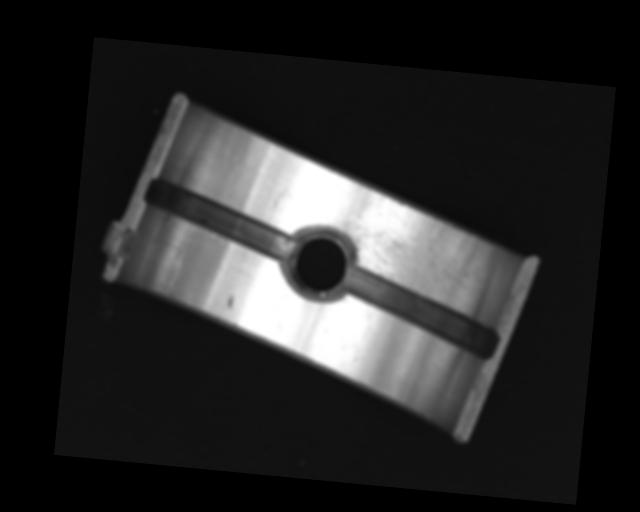bruise: (225, 292, 235, 309)
gap: (340, 268, 502, 361), (140, 176, 299, 259)
hole: (278, 222, 360, 306)
nick: (264, 184, 289, 224), (166, 249, 187, 294)
scratch: (318, 172, 493, 312)
